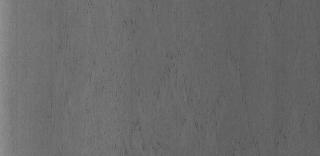silk spot: (106, 28, 272, 156)
